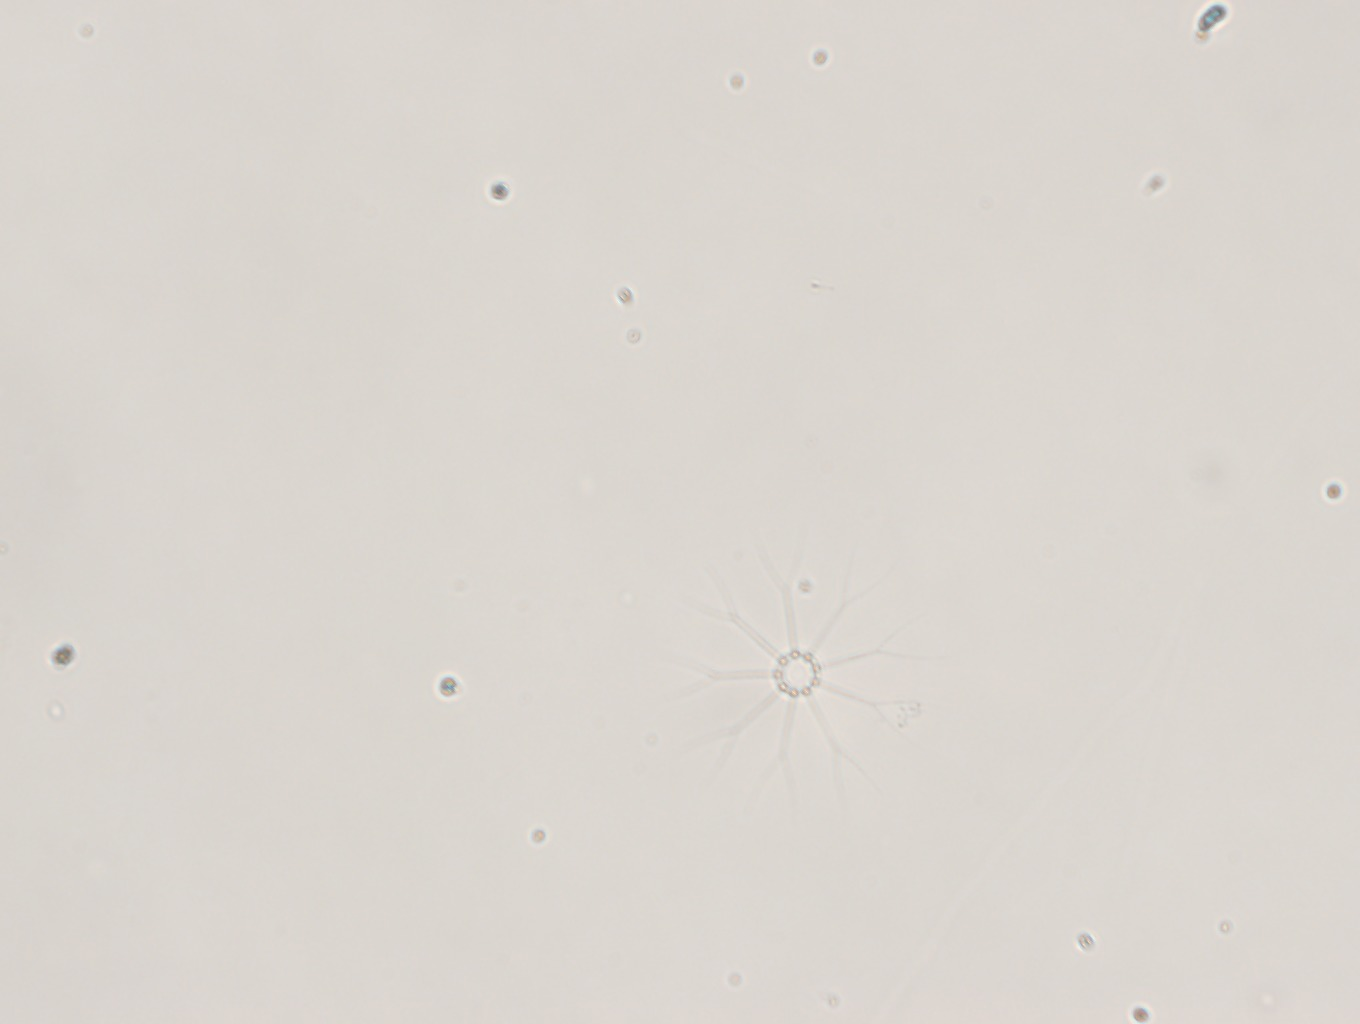bacteriastrum: (662, 531, 931, 825)
